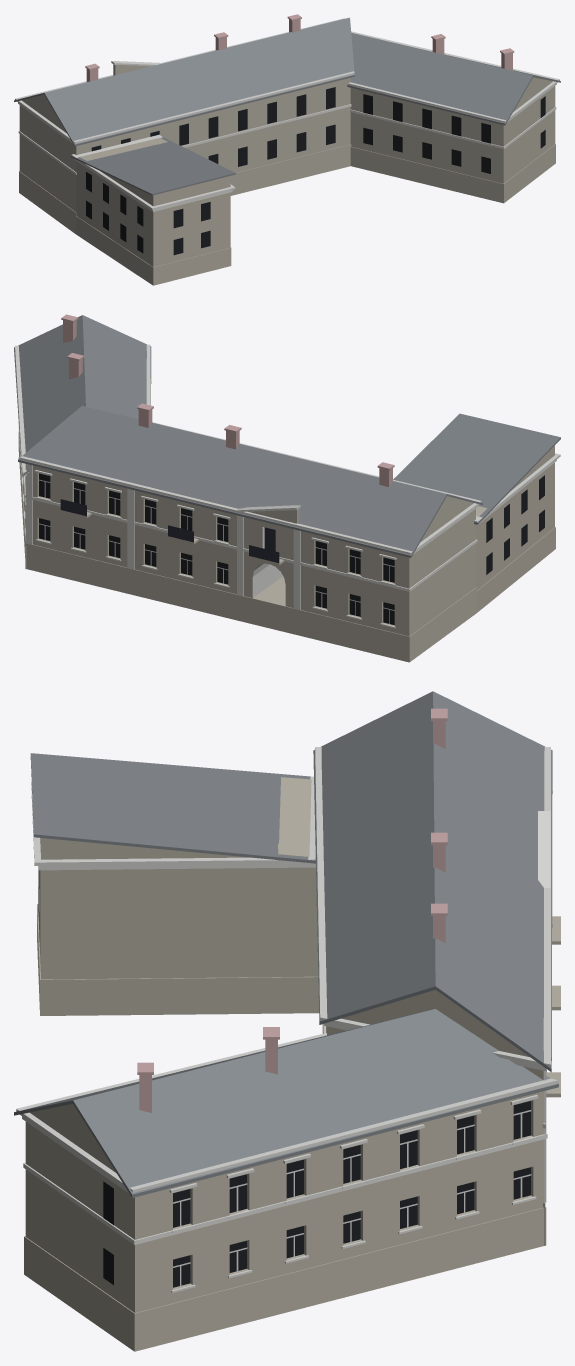
File: SM_Zapskovye_Pozemskogo5.glb
3 views of the same model, one above another, from view 1: azimuth 30°, elevation 25°; view 2: azimuth 150°, elevation 25°; view 3: azimuth 270°, elevation 25° (orthographic). The views are drawn at different scales.
Visible parts, largest first — view 1: SM_Zapskovye_Pozemskogo5; view 2: SM_Zapskovye_Pozemskogo5; view 3: SM_Zapskovye_Pozemskogo5.
Boxes of the visible parts, x1,y1,x2,y2 form: SM_Zapskovye_Pozemskogo5: (14,14,560,285); SM_Zapskovye_Pozemskogo5: (14,314,560,662); SM_Zapskovye_Pozemskogo5: (14,691,560,1351).
Bounding box in the file's own units: 47.89 × 14 × 26.08.
